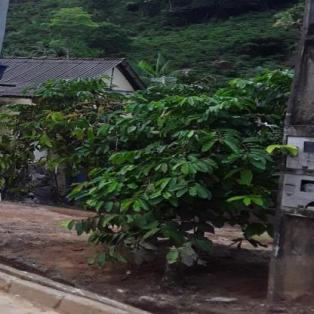Poste: (0, 0, 55, 246)
